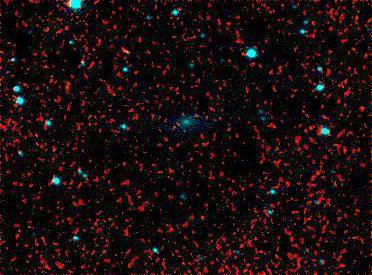star: (118, 36, 148, 66)
